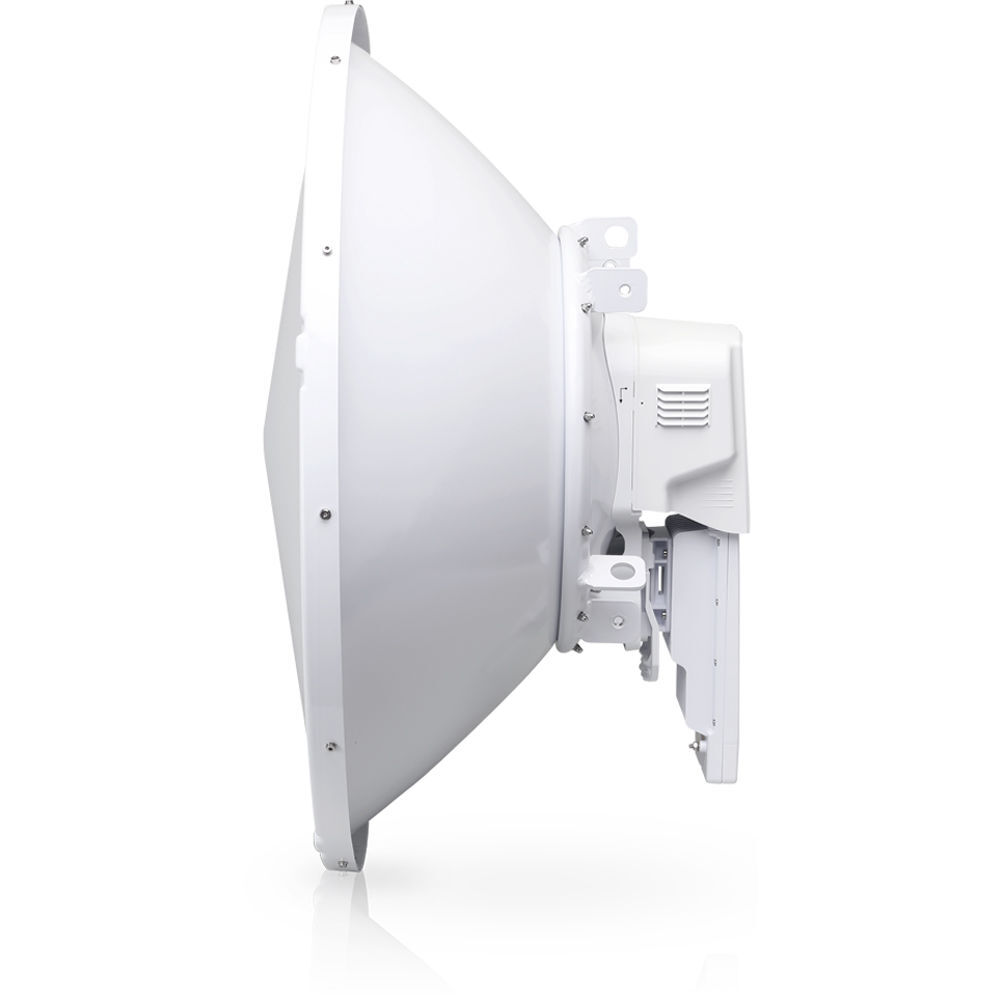ba: (185, 11, 792, 918)
